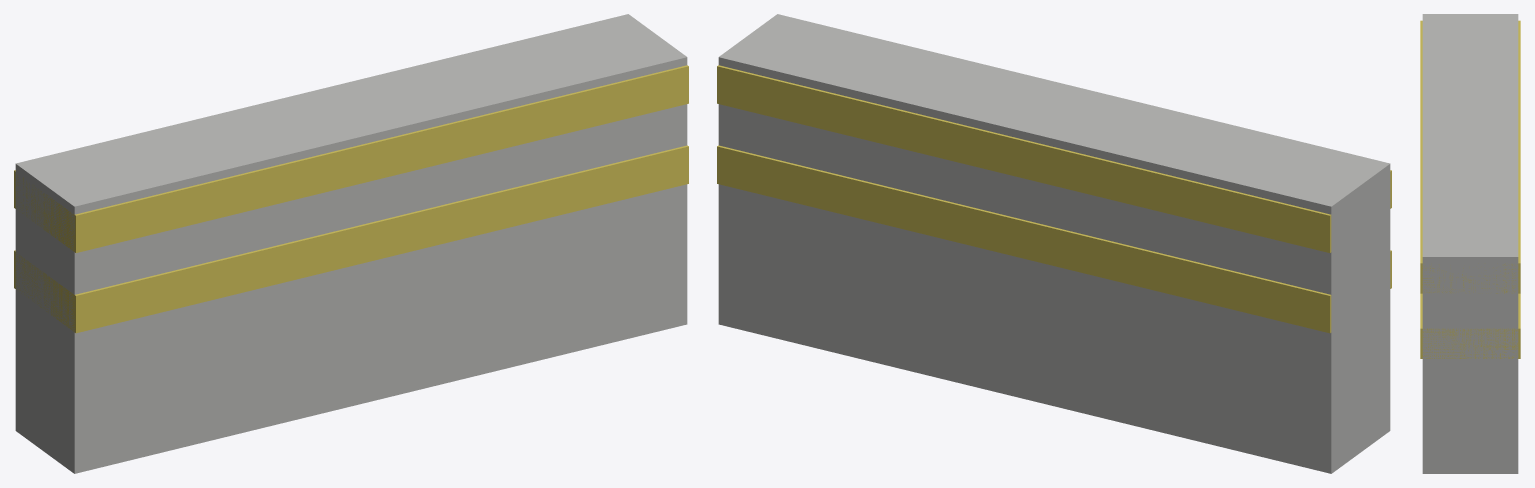
The model's file is Beton_Bariyer.glb.
3 renders of one model, left to right at view 1: azimuth 30°, elevation 25°; view 2: azimuth 150°, elevation 25°; view 3: azimuth 270°, elevation 25°, orthographic. The views are drawn at different scales.
Parts seen in each view (by area): view 1: Beton_Bariyer; view 2: Beton_Bariyer; view 3: Beton_Bariyer.
Part boxes in pixels (left/top/right/bottom): Beton_Bariyer: left=14, top=14, right=688, bottom=473; Beton_Bariyer: left=717, top=14, right=1391, bottom=473; Beton_Bariyer: left=1420, top=14, right=1520, bottom=473.
Bounding box in the file's own units: 2.4 × 1 × 0.42.
